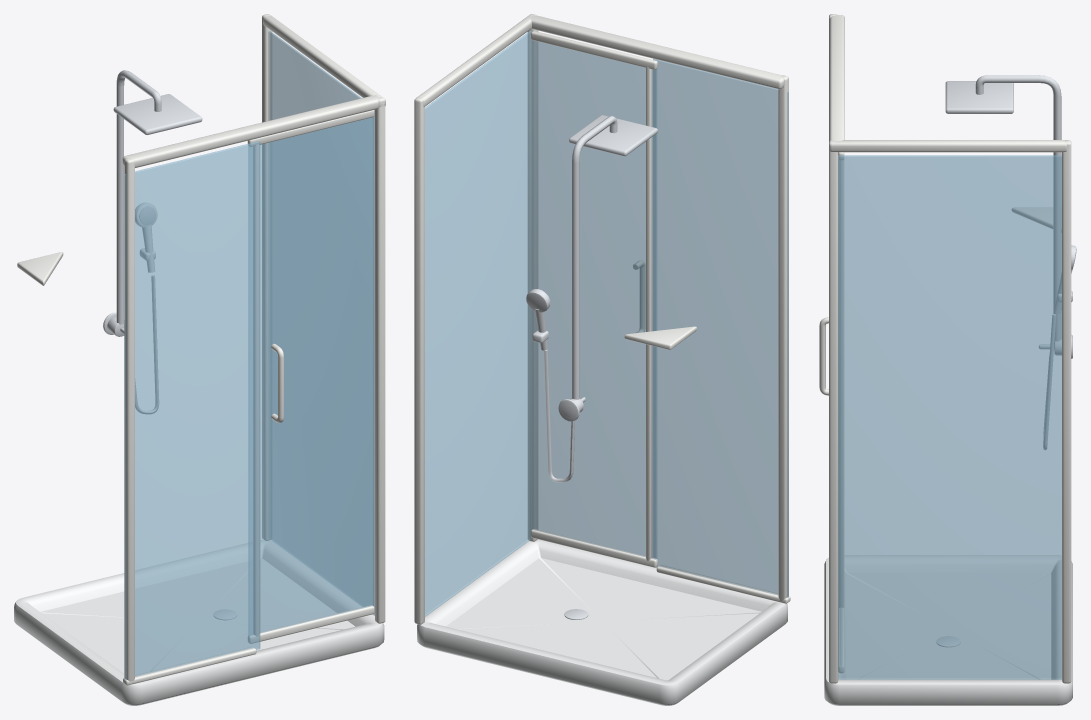
The model's file is box_chuveiro_retangular_branco.glb.
3 views of the same model, side by side, from view 1: azimuth 30°, elevation 25°; view 2: azimuth 150°, elevation 25°; view 3: azimuth 270°, elevation 25° (orthographic). The views are drawn at different scales.
Visible parts, largest first — view 1: box_chuveiro_retangular_branco, porta_box; view 2: box_chuveiro_retangular_branco, porta_box; view 3: box_chuveiro_retangular_branco, porta_box.
Part boxes in pixels (left/top/right/bottom): box_chuveiro_retangular_branco: left=14, top=14, right=385, bottom=705; porta_box: left=247, top=110, right=374, bottom=643; box_chuveiro_retangular_branco: left=414, top=14, right=790, bottom=705; porta_box: left=531, top=31, right=657, bottom=567; box_chuveiro_retangular_branco: left=824, top=14, right=1076, bottom=705; porta_box: left=819, top=152, right=844, bottom=672.
Bounding box in the file's own units: 1 × 2 × 0.8267.
Materials: 2 (1 with a texture image).
